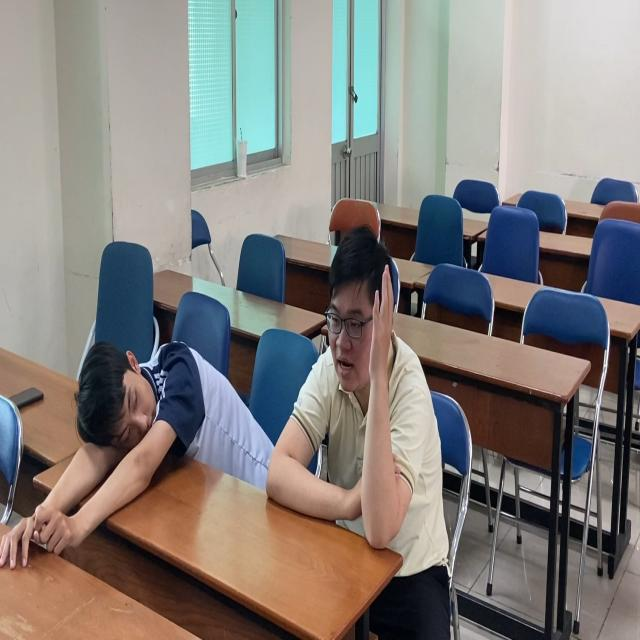raise_hand: (293, 230, 441, 568)
sleep: (54, 338, 243, 494)
